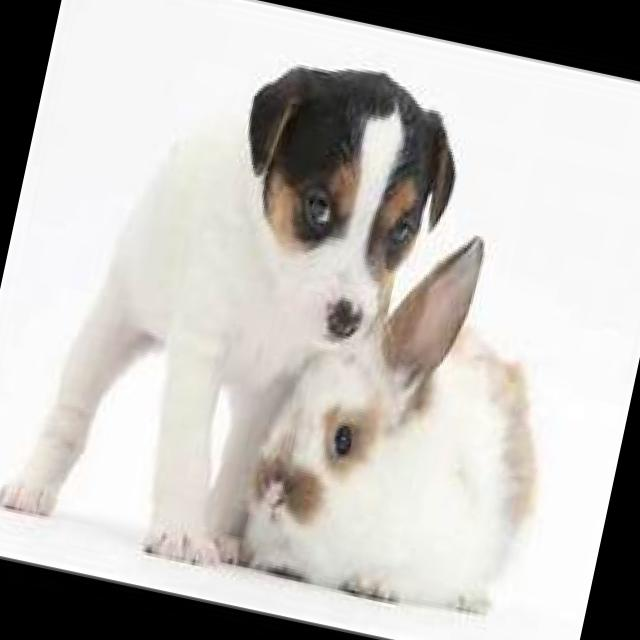dog: (0, 7, 474, 601)
